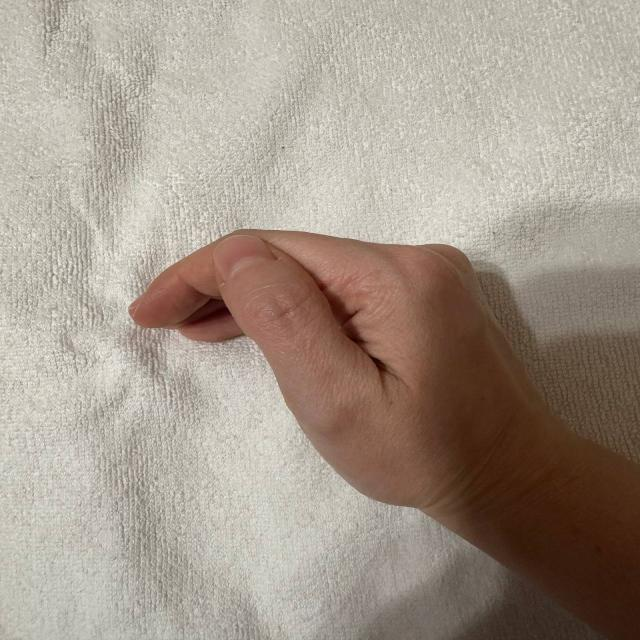f: (94, 216, 534, 506)
